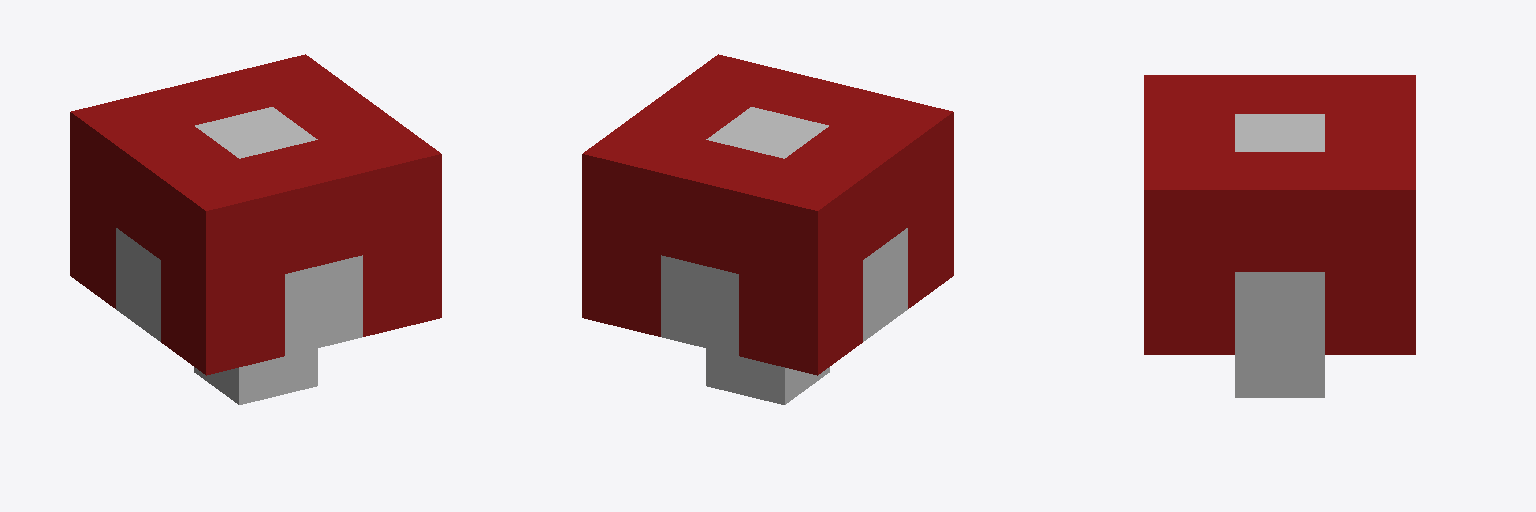
3 views of the same model, side by side, from view 1: azimuth 30°, elevation 25°; view 2: azimuth 150°, elevation 25°; view 3: azimuth 270°, elevation 25° (orthographic).
Bounding box in the file's own units: 3 × 3 × 3.
1 materials, 1 textured.